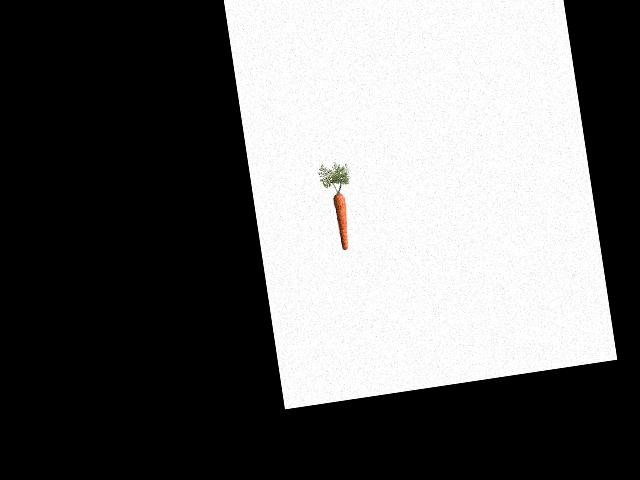carrot: (328, 187, 355, 253)
